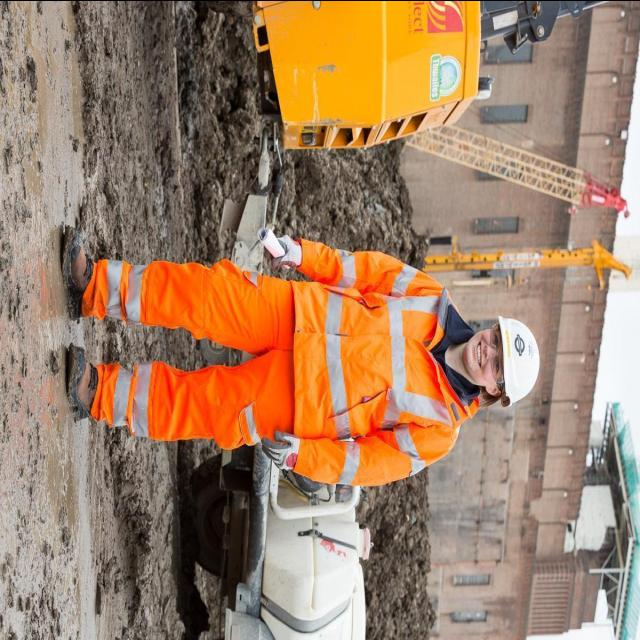helmet: (501, 304, 544, 427)
jacket: (282, 256, 468, 502)
